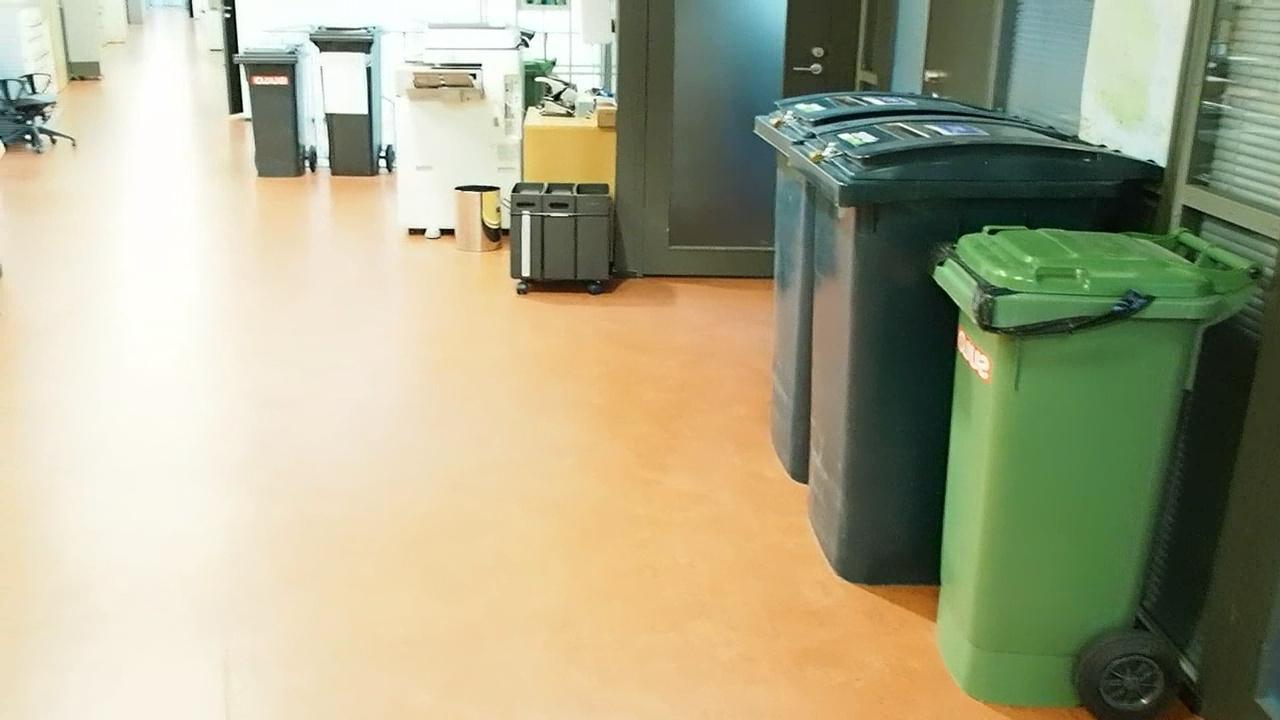trashbin: (919, 216, 1242, 694), (759, 71, 1057, 586), (236, 33, 310, 180)
